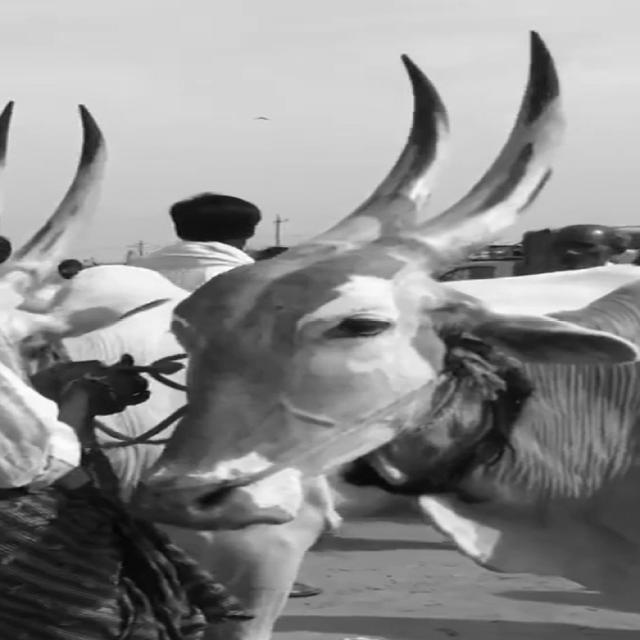Cow: (133, 62, 640, 596)
